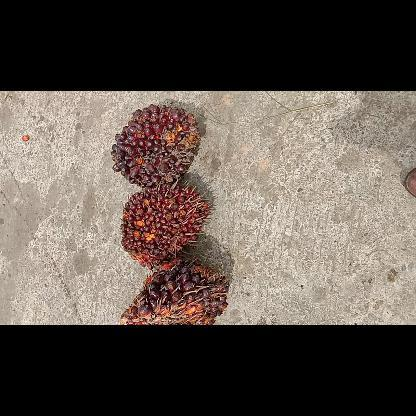Kurang masak: (119, 188, 211, 268), (112, 102, 198, 186)
TBS masak: (120, 260, 226, 324)
